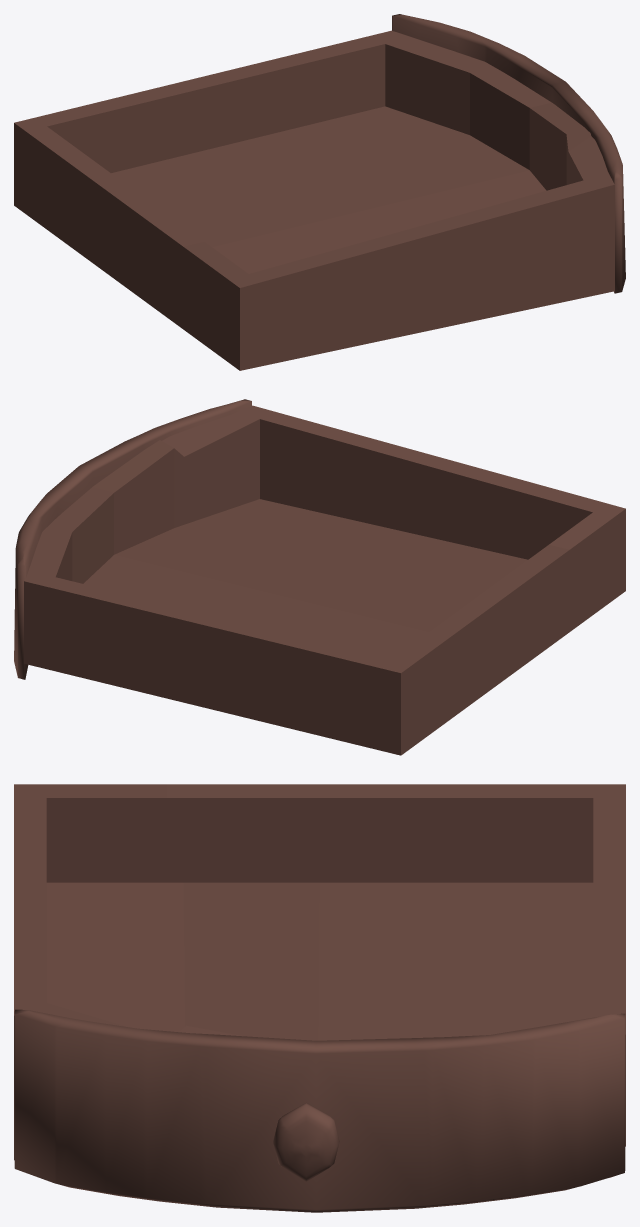
The model's file is end_table_drawer.glb.
3 renders of one model, top to bottom at view 1: azimuth 30°, elevation 25°; view 2: azimuth 150°, elevation 25°; view 3: azimuth 270°, elevation 25°, orthographic. The views are drawn at different scales.
Parts seen in each view (by area): view 1: drawer; view 2: drawer; view 3: drawer.
Part boxes in pixels (bbox=[...]): drawer: bbox=[14, 14, 625, 370]; drawer: bbox=[14, 399, 625, 755]; drawer: bbox=[14, 784, 625, 1212].
Size of the model in its own units: 0.3541 by 0.0876 by 0.2972.
